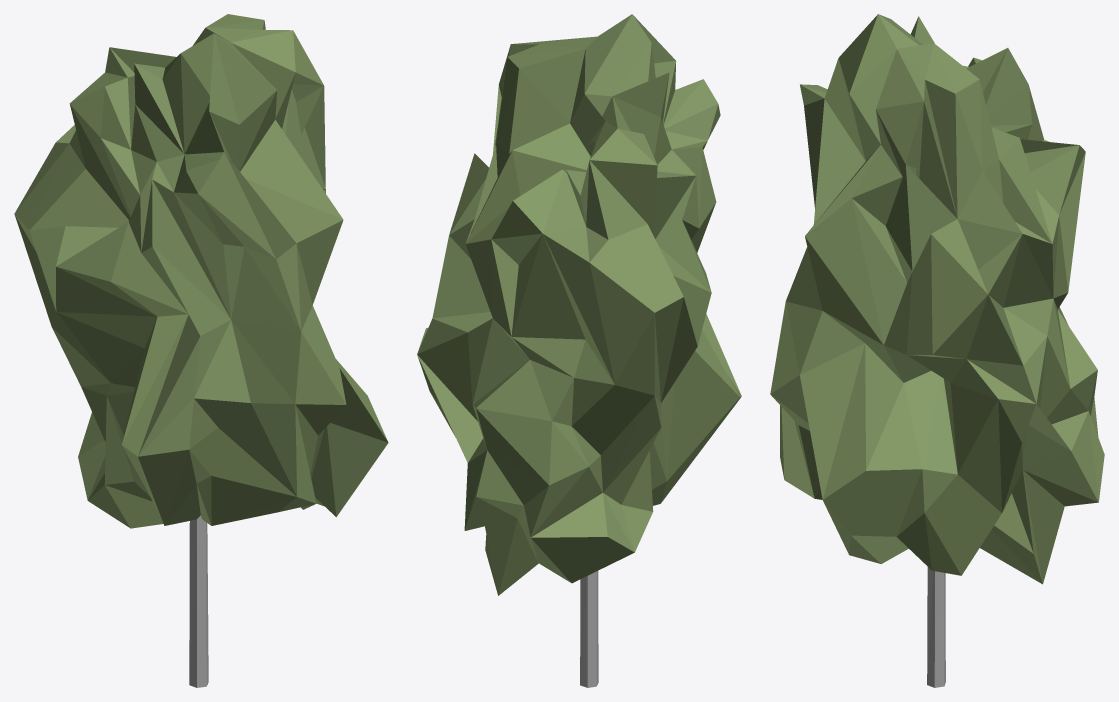
The model's file is P_Tree_birch_14meters.FBX.
3 views of the same model, side by side, from view 1: azimuth 30°, elevation 25°; view 2: azimuth 150°, elevation 25°; view 3: azimuth 270°, elevation 25° (orthographic). The views are drawn at different scales.
Visible parts, largest first — view 1: P_Tree_birch_14meters_LOD0; view 2: P_Tree_birch_14meters_LOD0; view 3: P_Tree_birch_14meters_LOD0.
Boxes of the visible parts, x1=… form: P_Tree_birch_14meters_LOD0: x1=14, y1=14, x2=388, y2=687; P_Tree_birch_14meters_LOD0: x1=417, y1=14, x2=741, y2=687; P_Tree_birch_14meters_LOD0: x1=770, y1=14, x2=1104, y2=687.
Size of what is drawn, in the model's own units: 5.98 by 14.16 by 6.48.
